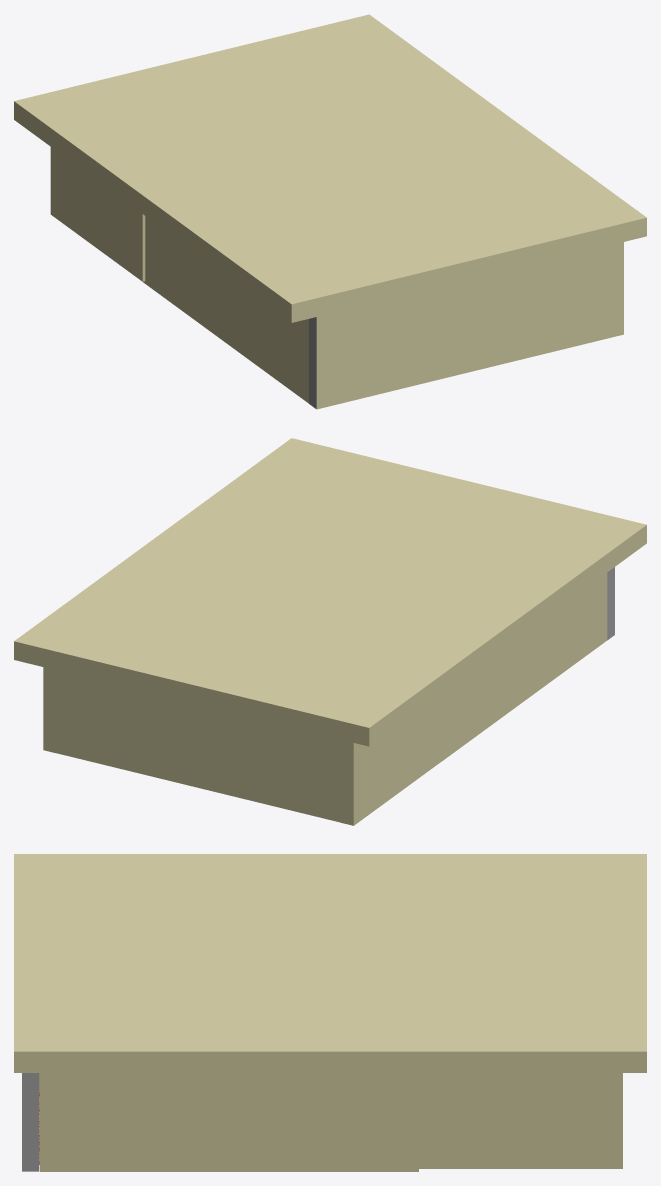
The model's file is escena completa.fbx.
The picture shows the model from 3 angles, top to bottom: view 1: azimuth 30°, elevation 25°; view 2: azimuth 150°, elevation 25°; view 3: azimuth 270°, elevation 25°; orthographic projection. The views are drawn at different scales.
Parts seen in each view (by area): view 1: techo, pCube4, pCube1, pared2; view 2: techo, pared, pCube1, pared2, pared3, pCube4; view 3: techo, pCube3, pared3, pCube4.
Boxes of the visible parts, <box> form: techo: <box>14,14,646,322</box>; pCube4: <box>309,242,623,409</box>; pCube1: <box>143,216,308,403</box>; pared2: <box>50,147,145,281</box>; techo: <box>14,438,646,746</box>; pared: <box>56,670,340,822</box>; pCube1: <box>441,573,607,761</box>; pared2: <box>341,691,445,825</box>; pared3: <box>43,667,55,752</box>; pCube4: <box>607,567,614,640</box>; techo: <box>14,854,646,1072</box>; pCube3: <box>40,1073,418,1171</box>; pared3: <box>413,1073,622,1168</box>; pCube4: <box>22,1073,39,1171</box>.
Size of the model in its own units: 15.15 by 4.7 by 20.5.
Materials: 13 (2 with a texture image).
